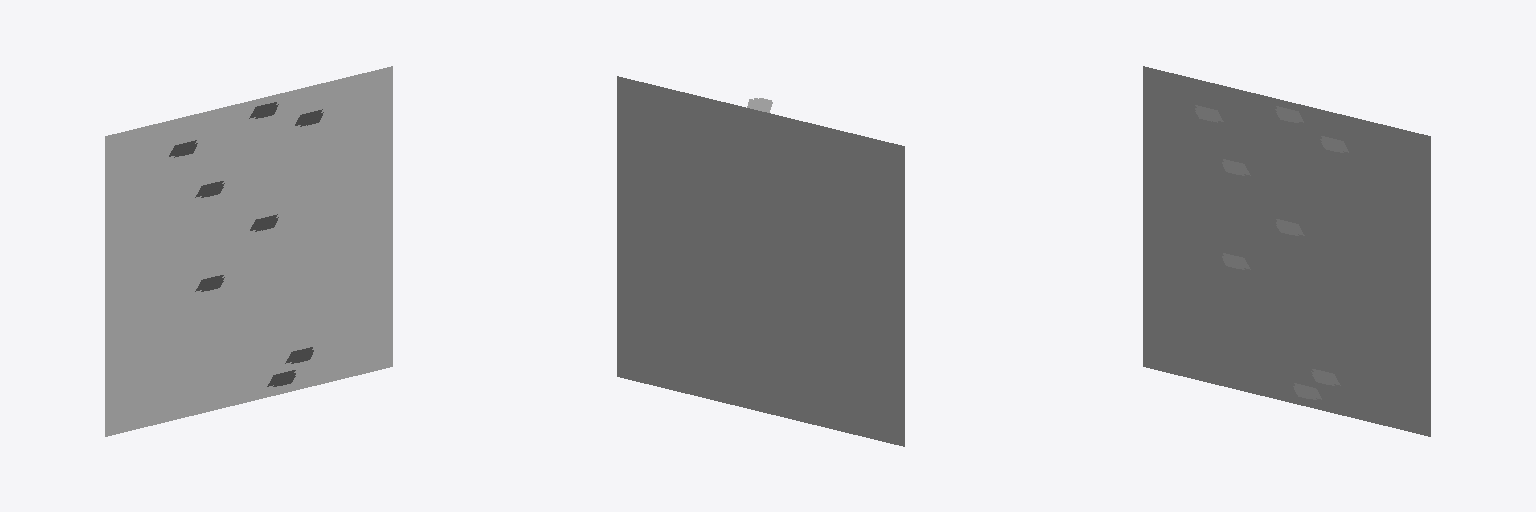
Rendered from Plat_full_08_03.obj.
3 renders of one model, left to right at view 1: azimuth 30°, elevation 25°; view 2: azimuth 150°, elevation 25°; view 3: azimuth 330°, elevation 25°, orthographic.
Parts seen in each view (by area): view 1: map; view 2: map; view 3: map.
Boxes of the visible parts, <box> form: map: <box>105,66,392,436</box>; map: <box>617,76,904,446</box>; map: <box>1143,66,1430,436</box>.
Bounding box in the file's own units: 32 × 32.12 × 2.64.